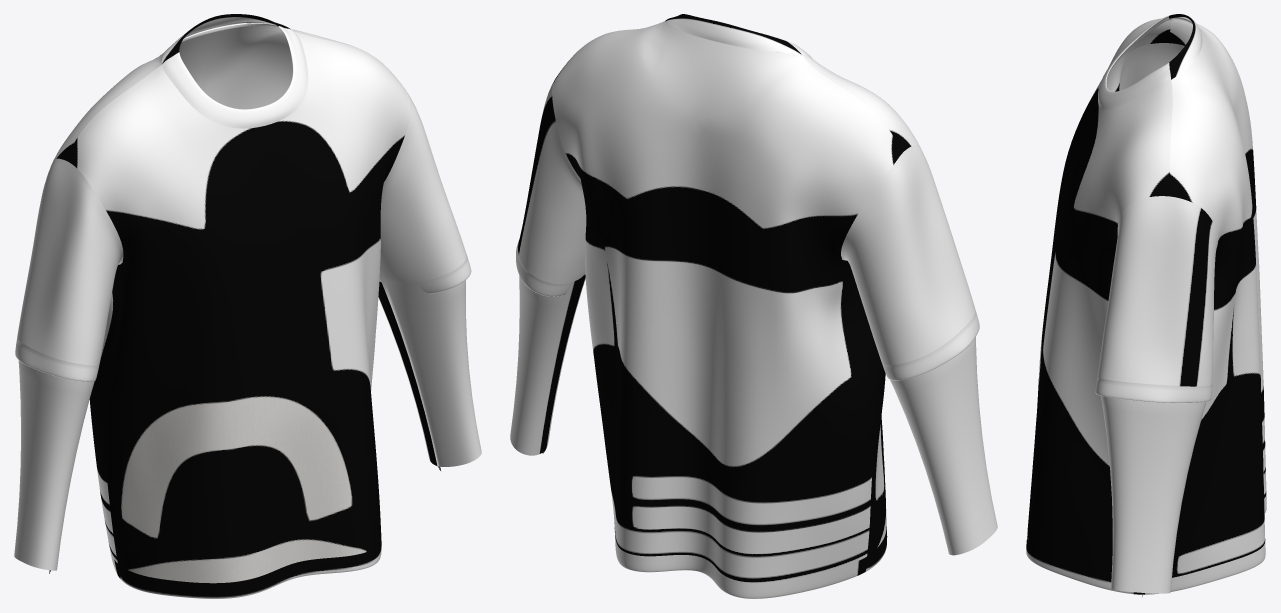
The picture shows the model from 3 angles, left to right: view 1: azimuth 30°, elevation 25°; view 2: azimuth 150°, elevation 25°; view 3: azimuth 270°, elevation 25°; orthographic projection. The views are drawn at different scales.
Parts seen in each view (by area): view 1: Sweat_Material_0; view 2: Sweat_Material_0; view 3: Sweat_Material_0.
Part boxes in pixels (bbox=[...]): Sweat_Material_0: bbox=[14, 14, 481, 598]; Sweat_Material_0: bbox=[510, 14, 997, 598]; Sweat_Material_0: bbox=[1026, 14, 1266, 596].
Bounding box in the file's own units: 35.96 × 39.21 × 16.68.
Materials: 1 (1 with a texture image).
